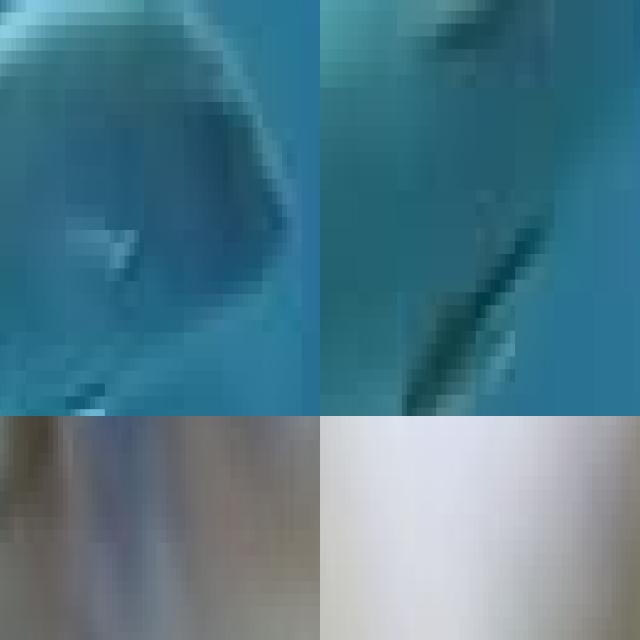fish: (0, 0, 320, 416), (0, 416, 320, 640)
